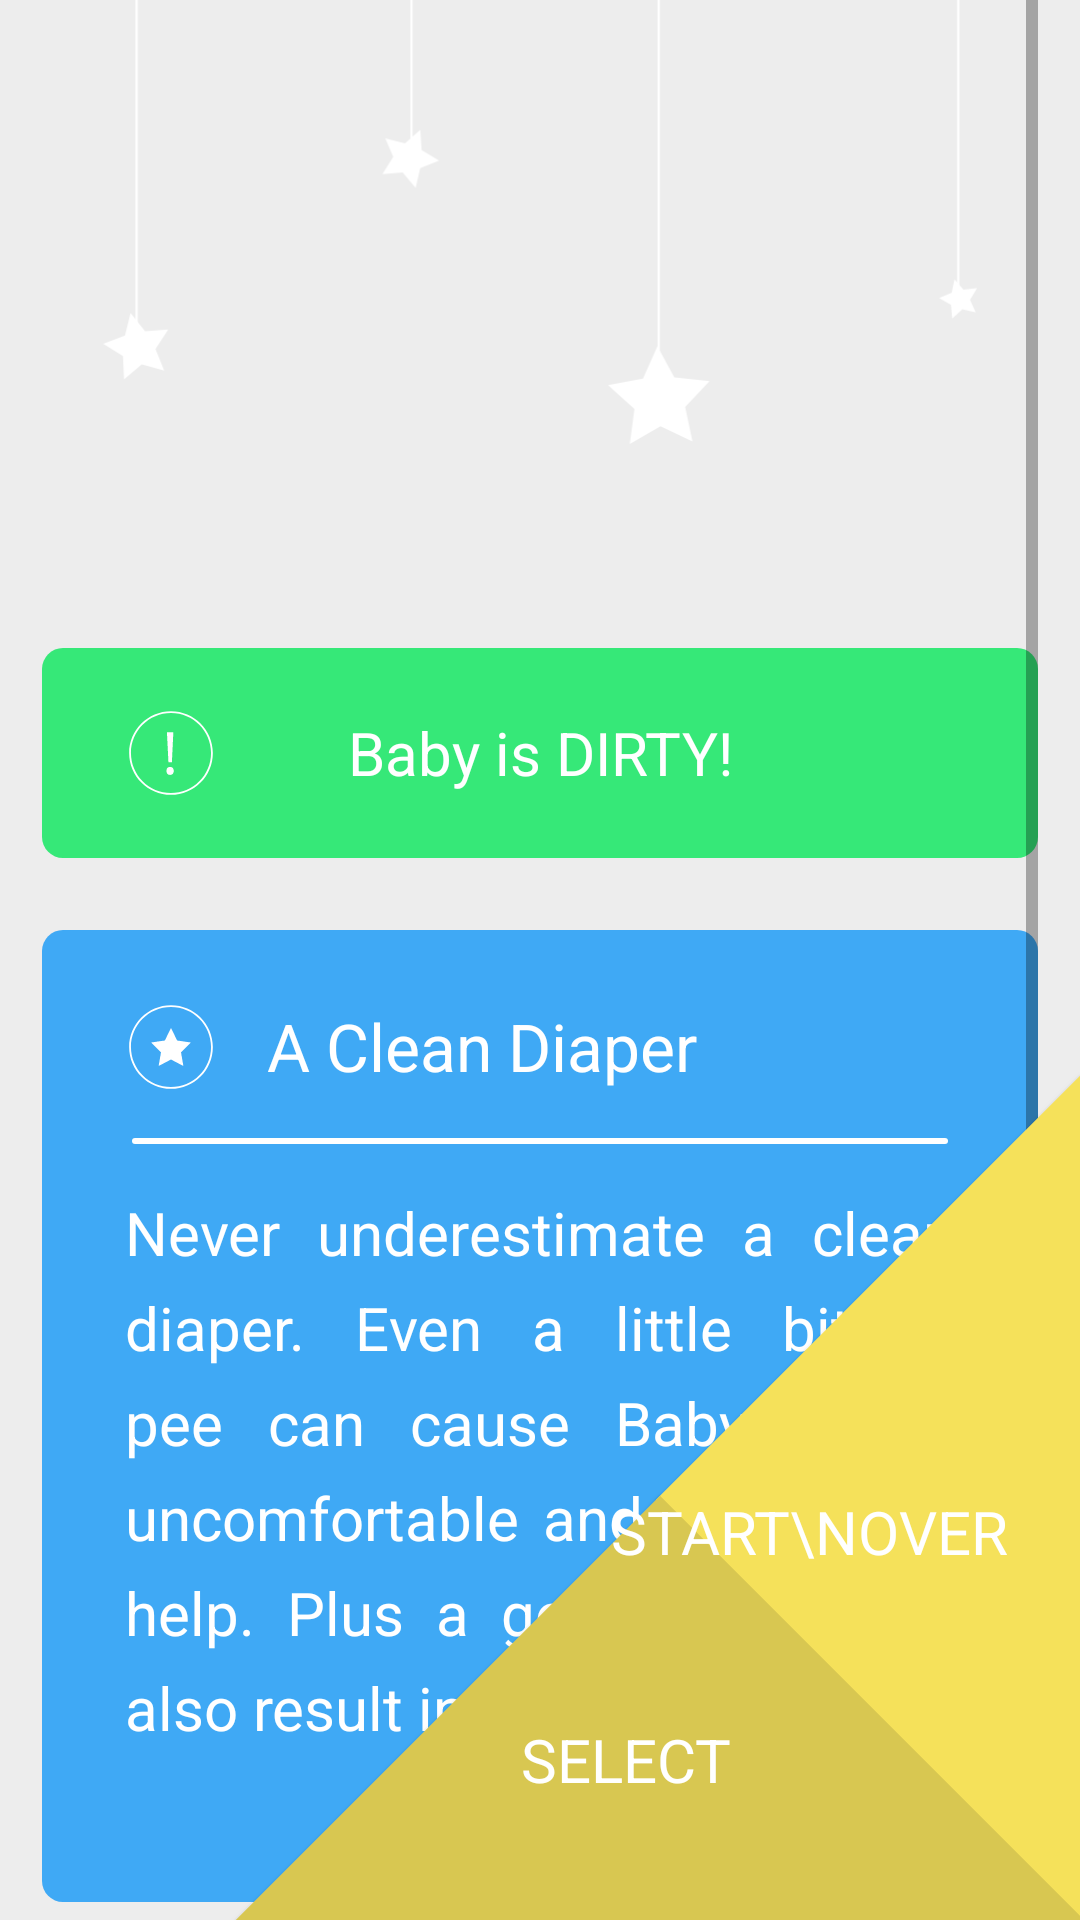

Where to tap for icons on this 1080w x 1920h app screen, as (x,y):
exclamationpoint: (171,753)
tip star: (171,1047)
